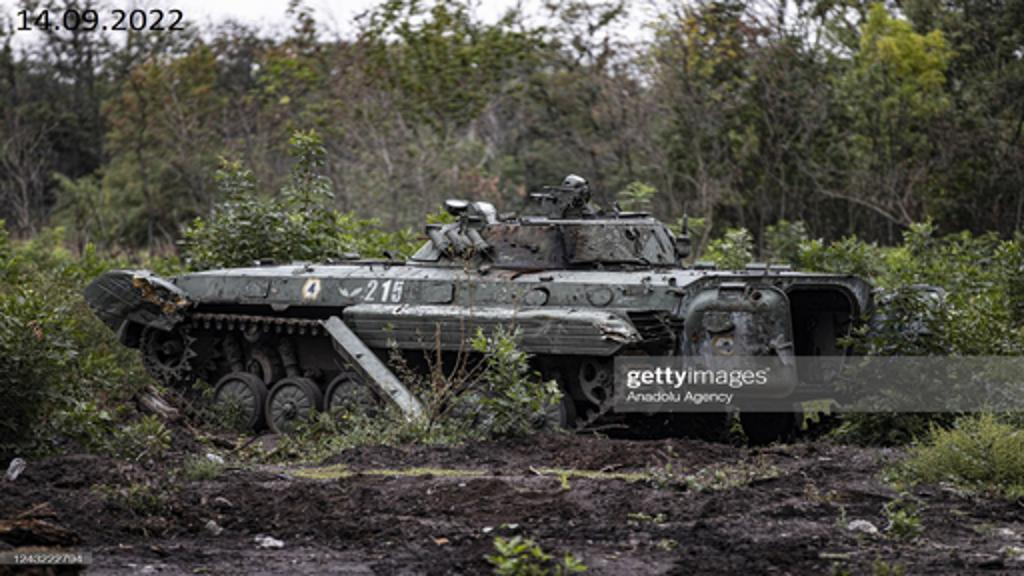APC-IFV: (86, 168, 878, 474)
